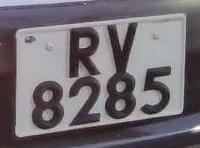2: (64, 74, 106, 128)
5: (137, 61, 178, 125)
8: (25, 73, 69, 132), (103, 69, 138, 123)
R: (64, 23, 105, 80)
V: (101, 16, 138, 77)
